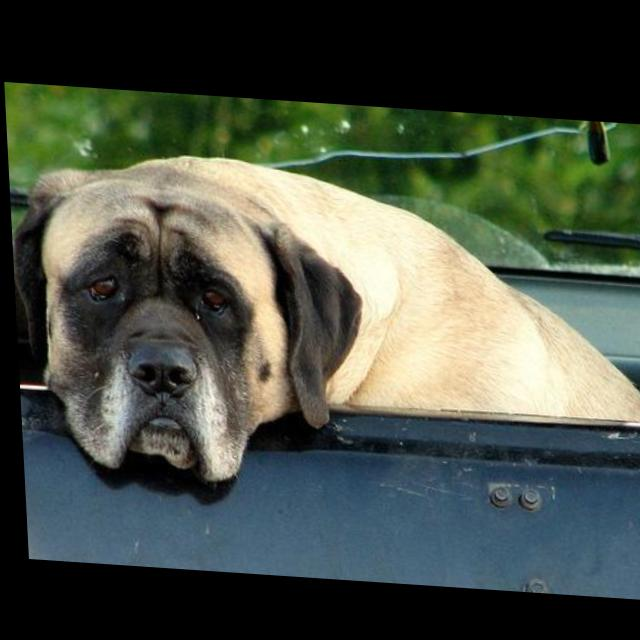bullmastiff: (7, 141, 640, 507)
